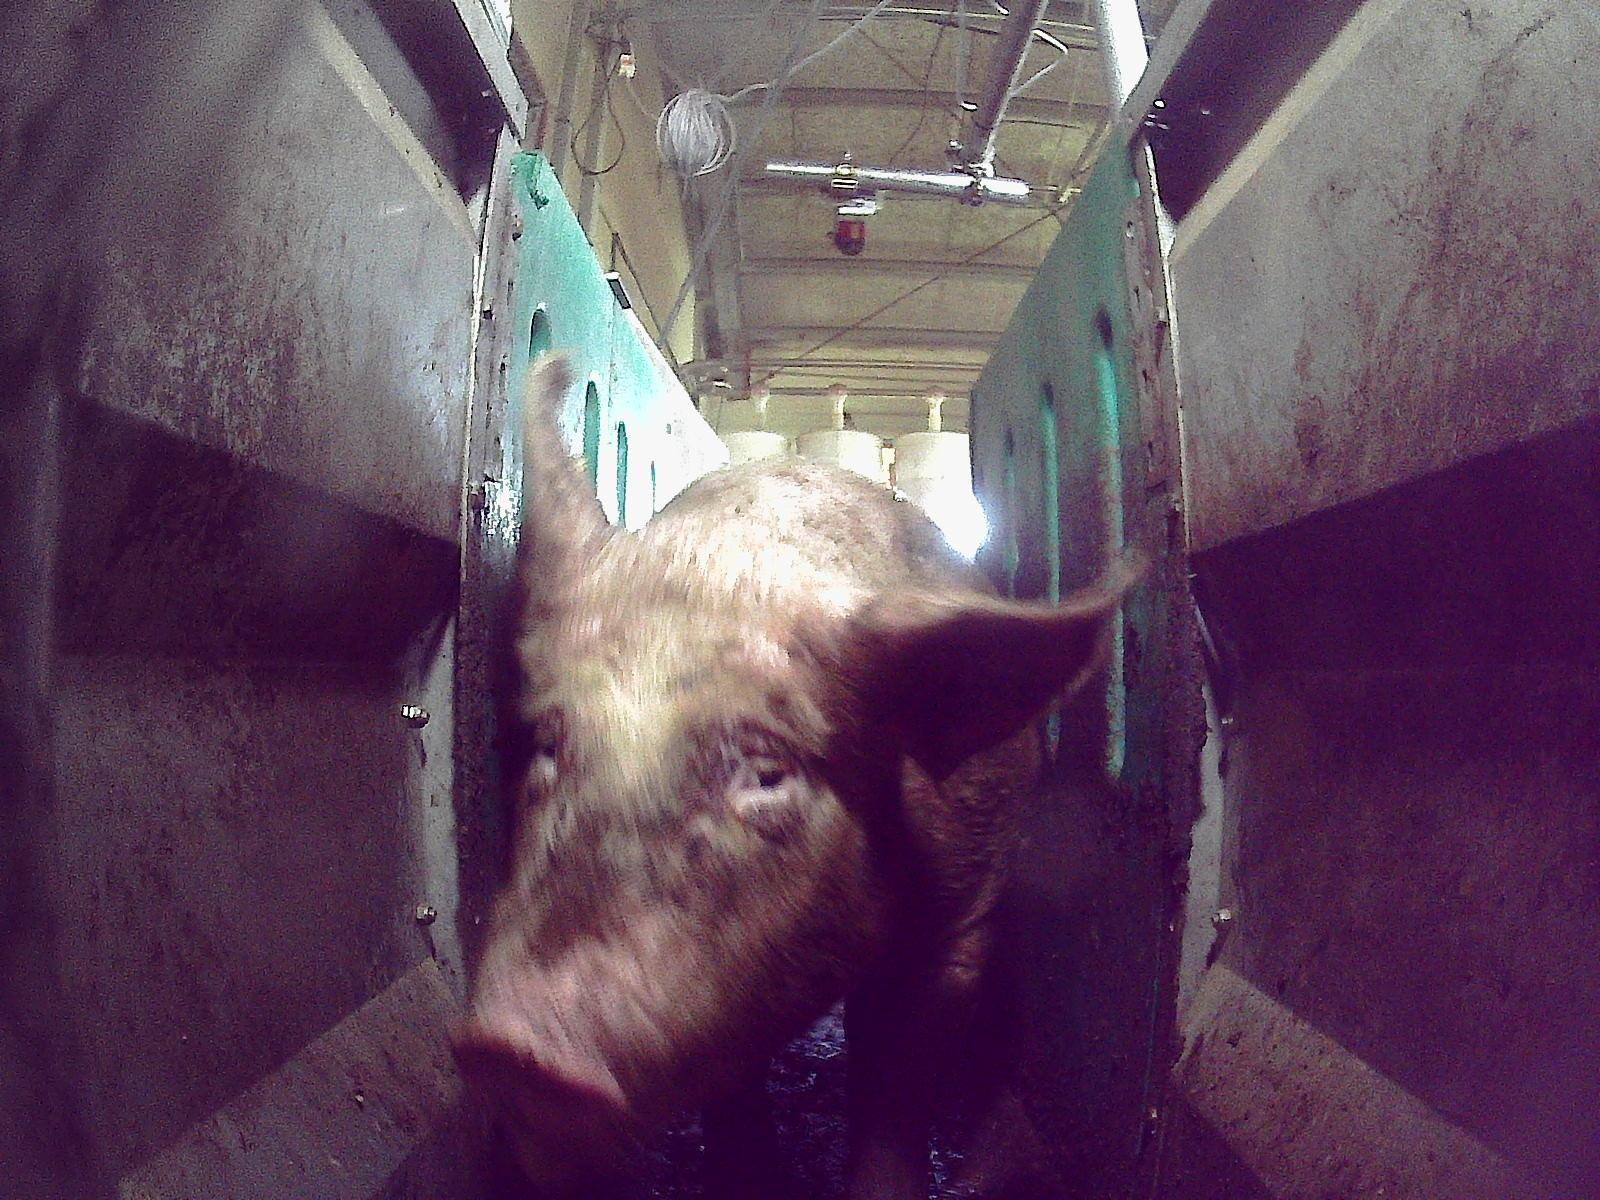Face: (452, 588, 906, 1161)
